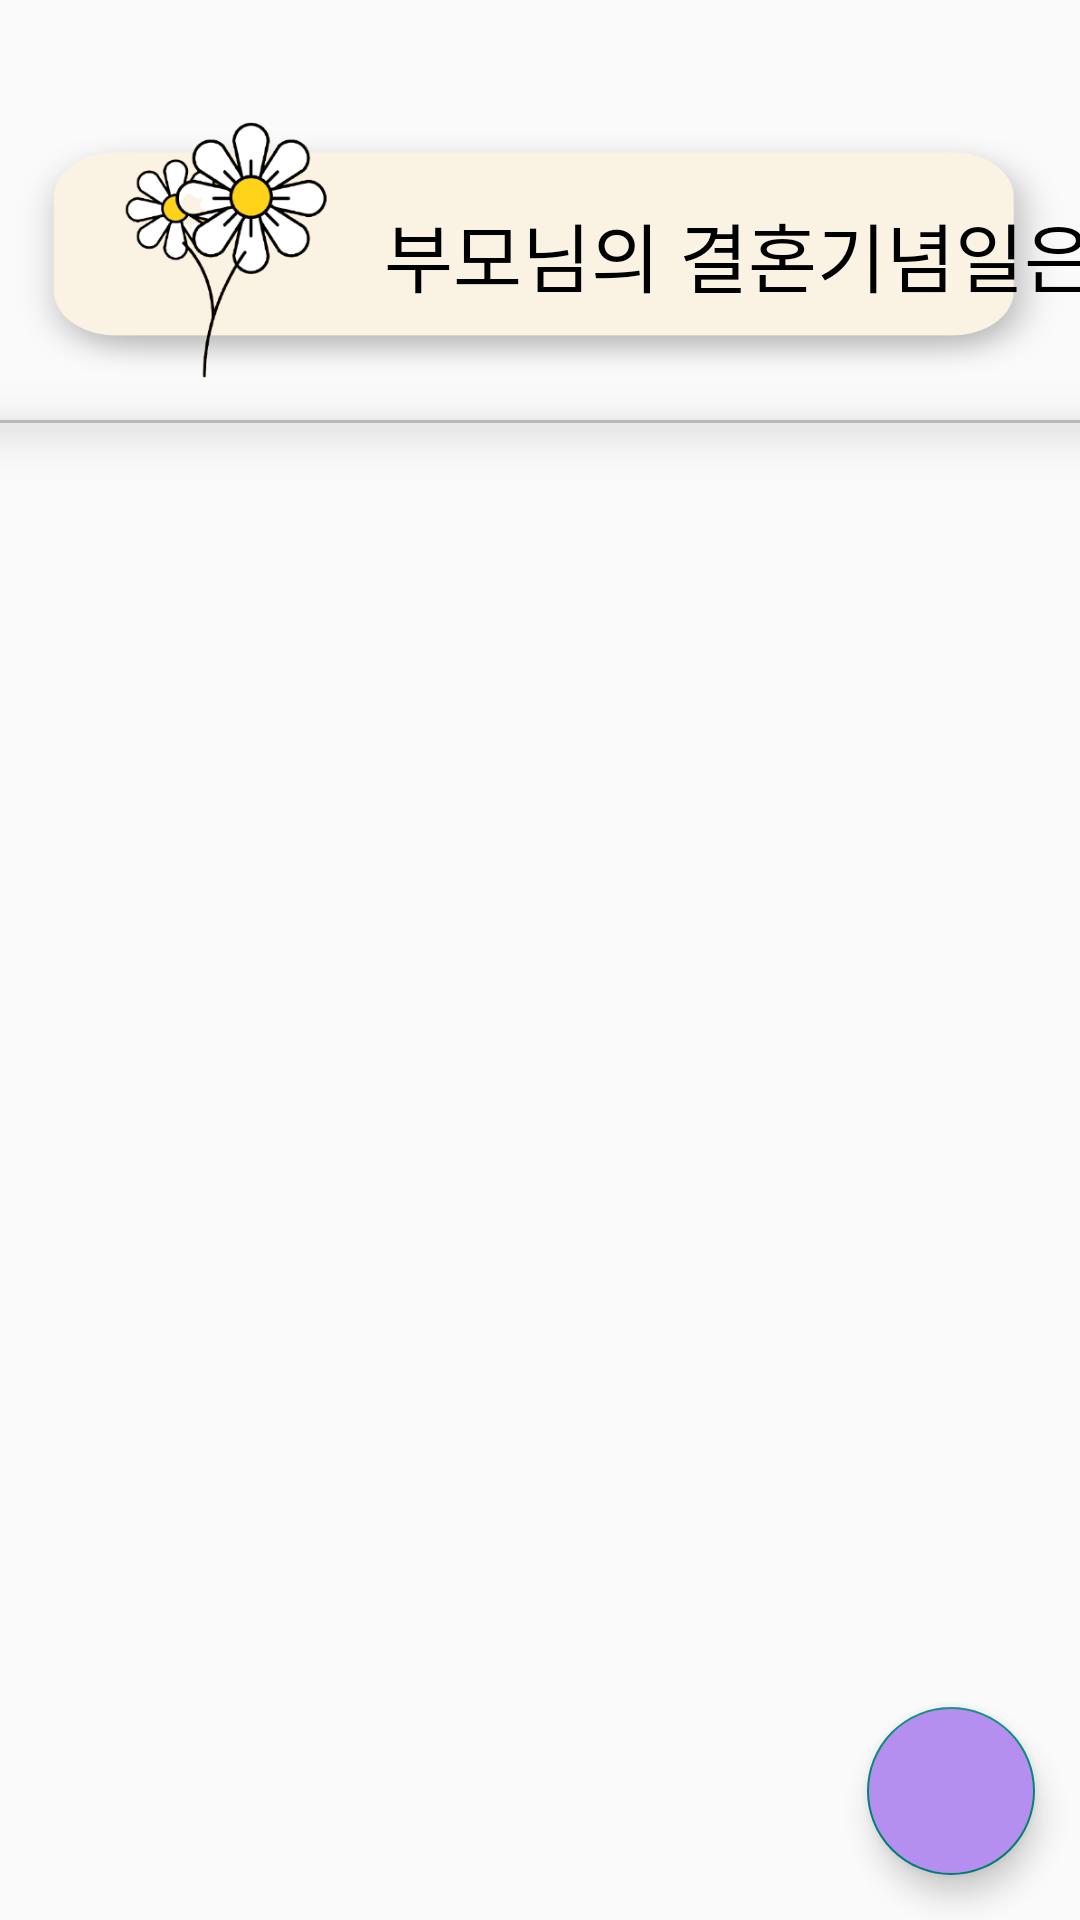

Icon click points for this 1080px×1920px phone screenshot, format (x=x, y=y):
flowerdaisy: (x=222, y=250)
